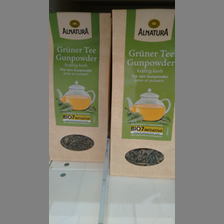tea: (111, 9, 175, 180), (49, 11, 111, 163)
